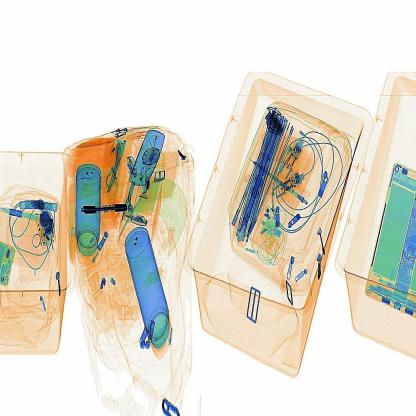knife: (74, 194, 135, 225)
